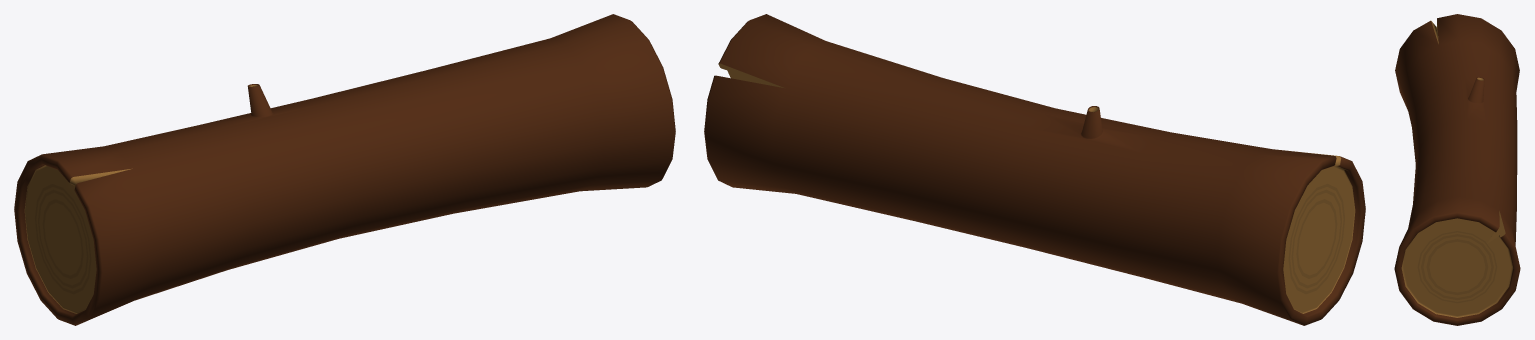
The model's file is Log.gltf.
The picture shows the model from 3 angles, left to right: view 1: azimuth 30°, elevation 25°; view 2: azimuth 150°, elevation 25°; view 3: azimuth 270°, elevation 25°; orthographic projection. The views are drawn at different scales.
Parts seen in each view (by area): view 1: Cylinder; view 2: Cylinder; view 3: Cylinder.
Part boxes in pixels (x1=…): Cylinder: x1=14, y1=14, x2=675, y2=325; Cylinder: x1=704, y1=14, x2=1365, y2=325; Cylinder: x1=1394, y1=14, x2=1520, y2=325.
Size of the model in its own units: 1.54 by 0.4413 by 0.4108.
